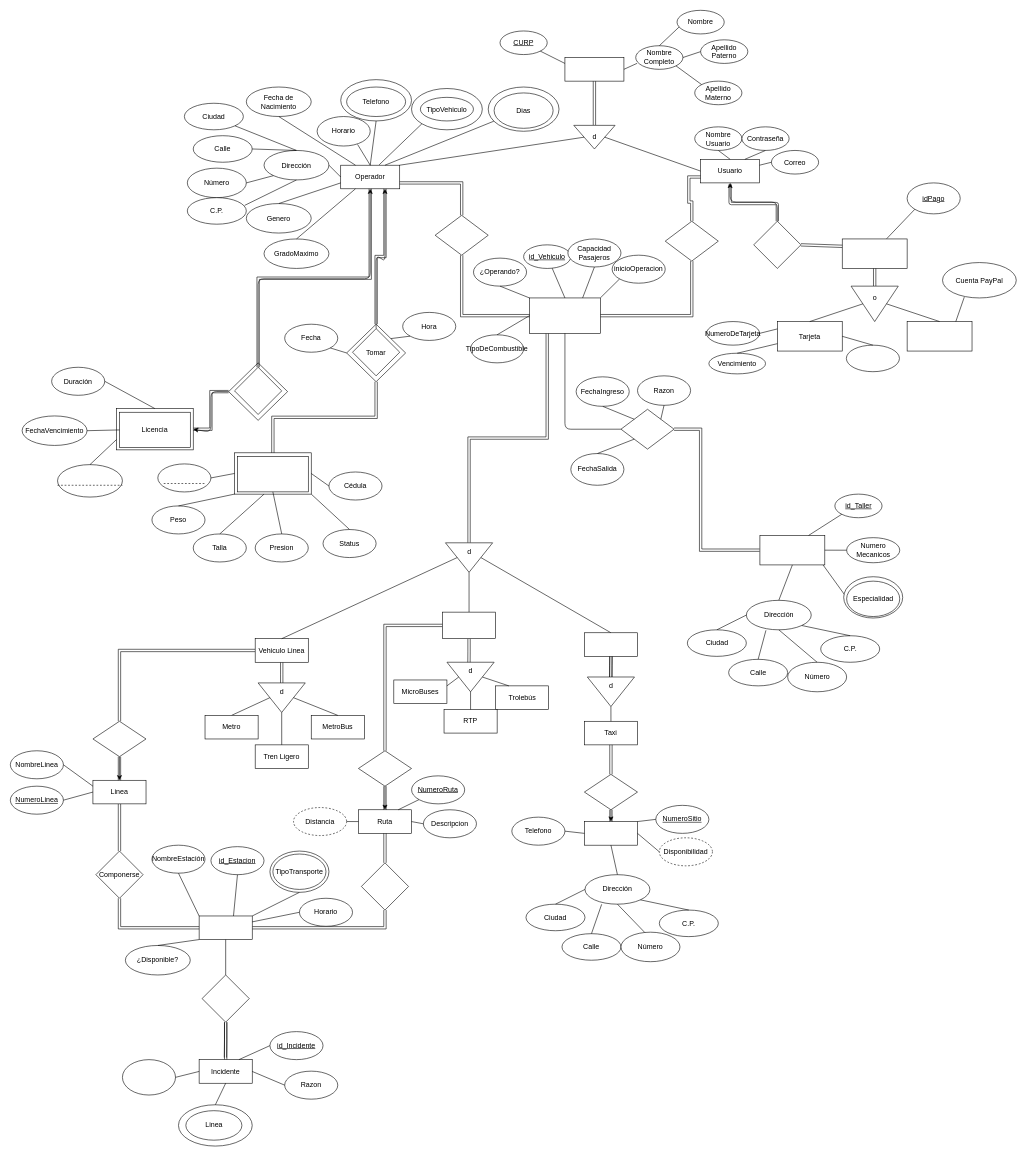
Some shapes in this 1027 by 1156 pixel diagram are drawn without their labels. Each missing label, with the centre of its shape:
"Contar" belongs at pixel 385 886.
"Corresponder" belongs at pixel 385 768.
"CVV" belongs at pixel 872 358.
"Deshabilitar" belongs at pixel 225 998.
"Estación" belongs at pixel 225 927.
"Estar" belongs at pixel 119 739.
"ExamenMedico" belongs at pixel 272 474.
"FechaReApertura" belongs at pixel 149 1077.
"id_Examen" belongs at pixel 184 477.
"Manejar" belongs at pixel 461 235.
"Método Pago" belongs at pixel 874 253.
"NúmeroDeLicencia" belongs at pixel 89 480.
"Pagar" belongs at pixel 691 241.
"Paypal" belongs at pixel 939 336.
"Persona" belongs at pixel 594 69.
"Pertenecer" belongs at pixel 610 792.
"Poseer" belongs at pixel 777 244.
"Reparar" belongs at pixel 647 429.
"Sitio" belongs at pixel 610 833.
"Taller" belongs at pixel 792 550.
"Tener" belongs at pixel 258 390.
"Vehiculo" belongs at pixel 564 315.
"VehiculoRuta" belongs at pixel 469 625.
"VehiculoSitio" belongs at pixel 610 644.
